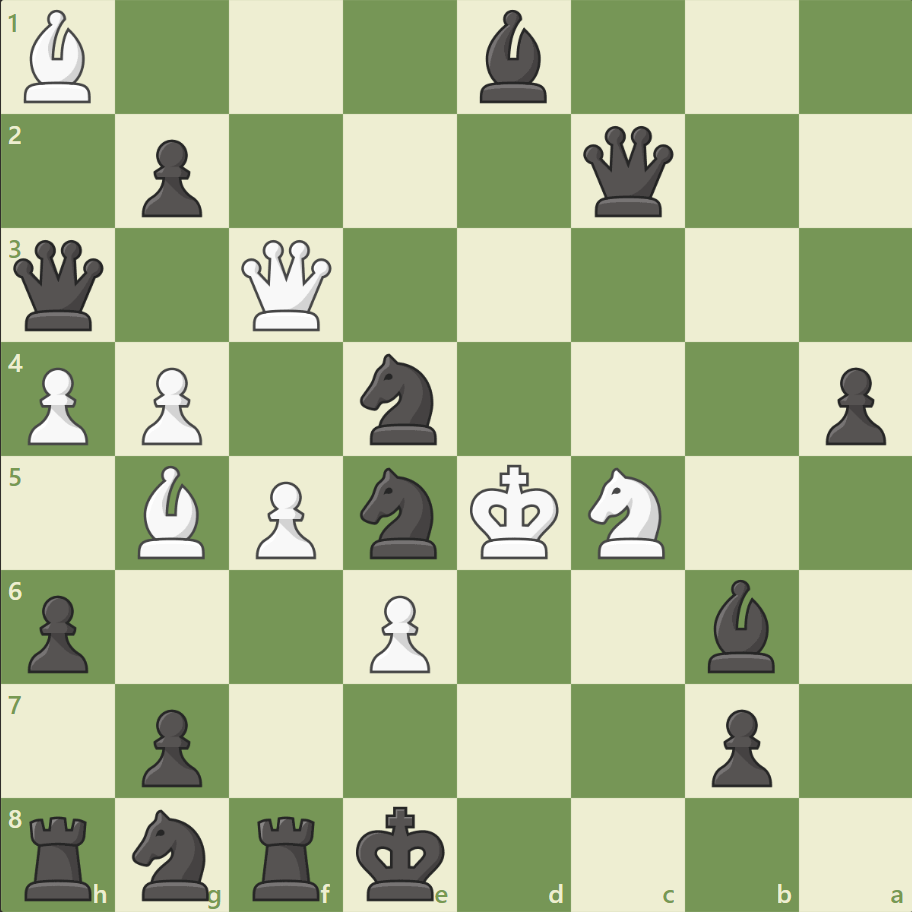B: (131, 460, 215, 563), (17, 6, 101, 109)
K: (465, 458, 565, 566)
N: (579, 461, 676, 564)
P: (247, 473, 322, 564), (133, 359, 208, 450), (20, 359, 95, 450), (361, 586, 435, 677)
Q: (237, 236, 336, 335)
b: (471, 6, 555, 109), (698, 574, 782, 676)
k: (351, 798, 451, 906)
n: (351, 461, 449, 564), (124, 802, 222, 904), (351, 348, 449, 450)
p: (701, 700, 776, 791), (133, 700, 208, 791), (20, 586, 95, 677), (133, 132, 208, 223), (815, 359, 889, 450)
q: (578, 122, 677, 222), (10, 236, 109, 335)
r: (246, 806, 329, 904), (19, 806, 102, 904)
